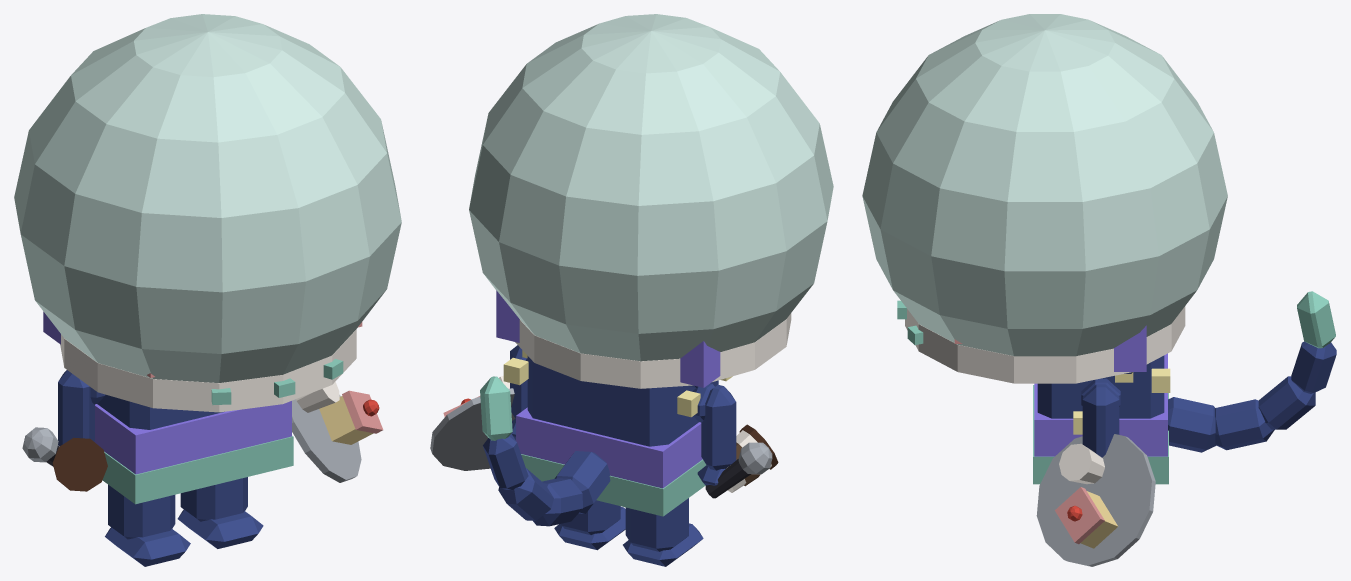
File: CatCafe_Cat_Aurora_Work.glb
3 views of the same model, side by side, from view 1: azimuth 30°, elevation 25°; view 2: azimuth 150°, elevation 25°; view 3: azimuth 270°, elevation 25° (orthographic). The views are drawn at different scales.
Parts seen in each view (by area): view 1: CatCafe_Cat_Aurora_Work_Prop_Glass, CatCafe_Cat_Aurora_Work_Body, CatCafe_Cat_Aurora_Work_Prop, CatCafe_Cat_Aurora_Work_Held_Waiter, CatCafe_Cat_Aurora_Work_LegB2, CatCafe_Cat_Aurora_Work_LegB1, CatCafe_Cat_Aurora_Work_Held_Barista, CatCafe_Cat_Aurora_Work_LegF2, CatCafe_Cat_Aurora_Work_Held_Entertainer; view 2: CatCafe_Cat_Aurora_Work_Prop_Glass, CatCafe_Cat_Aurora_Work_Body, CatCafe_Cat_Aurora_Work_Tail, CatCafe_Cat_Aurora_Work_Prop, CatCafe_Cat_Aurora_Work_LegB2, CatCafe_Cat_Aurora_Work_Held_Waiter, CatCafe_Cat_Aurora_Work_LegF2, CatCafe_Cat_Aurora_Work_Head, CatCafe_Cat_Aurora_Work_LegB1, CatCafe_Cat_Aurora_Work_Held_Entertainer, CatCafe_Cat_Aurora_Work_Held_Barista, CatCafe_Cat_Aurora_Work_LegF1; view 3: CatCafe_Cat_Aurora_Work_Prop_Glass, CatCafe_Cat_Aurora_Work_Held_Waiter, CatCafe_Cat_Aurora_Work_Tail, CatCafe_Cat_Aurora_Work_Body, CatCafe_Cat_Aurora_Work_Prop, CatCafe_Cat_Aurora_Work_LegF1, CatCafe_Cat_Aurora_Work_Head.
Part boxes in pixels (x1=…): CatCafe_Cat_Aurora_Work_Prop_Glass: x1=14, y1=14, x2=401, y2=382; CatCafe_Cat_Aurora_Work_Body: x1=90, y1=387, x2=293, y2=504; CatCafe_Cat_Aurora_Work_Prop: x1=60, y1=329, x2=356, y2=412; CatCafe_Cat_Aurora_Work_Held_Waiter: x1=292, y1=381, x2=383, y2=482; CatCafe_Cat_Aurora_Work_LegB2: x1=105, y1=484, x2=190, y2=566; CatCafe_Cat_Aurora_Work_LegB1: x1=177, y1=477, x2=263, y2=548; CatCafe_Cat_Aurora_Work_Held_Barista: x1=52, y1=437, x2=107, y2=491; CatCafe_Cat_Aurora_Work_LegF2: x1=58, y1=370, x2=94, y2=446; CatCafe_Cat_Aurora_Work_Held_Entertainer: x1=22, y1=427, x2=59, y2=466; CatCafe_Cat_Aurora_Work_Prop_Glass: x1=469, y1=14, x2=833, y2=361; CatCafe_Cat_Aurora_Work_Body: x1=503, y1=350, x2=732, y2=516; CatCafe_Cat_Aurora_Work_Tail: x1=480, y1=376, x2=610, y2=526; CatCafe_Cat_Aurora_Work_Prop: x1=515, y1=313, x2=791, y2=388; CatCafe_Cat_Aurora_Work_LegB2: x1=623, y1=498, x2=703, y2=566; CatCafe_Cat_Aurora_Work_Held_Waiter: x1=430, y1=376, x2=515, y2=470; CatCafe_Cat_Aurora_Work_LegF2: x1=697, y1=384, x2=736, y2=485; CatCafe_Cat_Aurora_Work_Head: x1=496, y1=290, x2=720, y2=387; CatCafe_Cat_Aurora_Work_LegB1: x1=554, y1=500, x2=625, y2=550; CatCafe_Cat_Aurora_Work_Held_Entertainer: x1=705, y1=442, x2=772, y2=498; CatCafe_Cat_Aurora_Work_Held_Barista: x1=727, y1=424, x2=778, y2=492; CatCafe_Cat_Aurora_Work_LegF1: x1=510, y1=345, x2=527, y2=439; CatCafe_Cat_Aurora_Work_Prop_Glass: x1=862, y1=14, x2=1227, y2=356; CatCafe_Cat_Aurora_Work_Held_Waiter: x1=1036, y1=434, x2=1155, y2=566; CatCafe_Cat_Aurora_Work_Tail: x1=1168, y1=291, x2=1336, y2=452; CatCafe_Cat_Aurora_Work_Body: x1=1033, y1=353, x2=1170, y2=484; CatCafe_Cat_Aurora_Work_Prop: x1=897, y1=300, x2=1185, y2=383; CatCafe_Cat_Aurora_Work_LegF1: x1=1082, y1=384, x2=1119, y2=457; CatCafe_Cat_Aurora_Work_Head: x1=954, y1=325, x2=1146, y2=373.
Size of the model in its own units: 1.58 by 2.24 by 1.96.
1 material, 1 textured.
